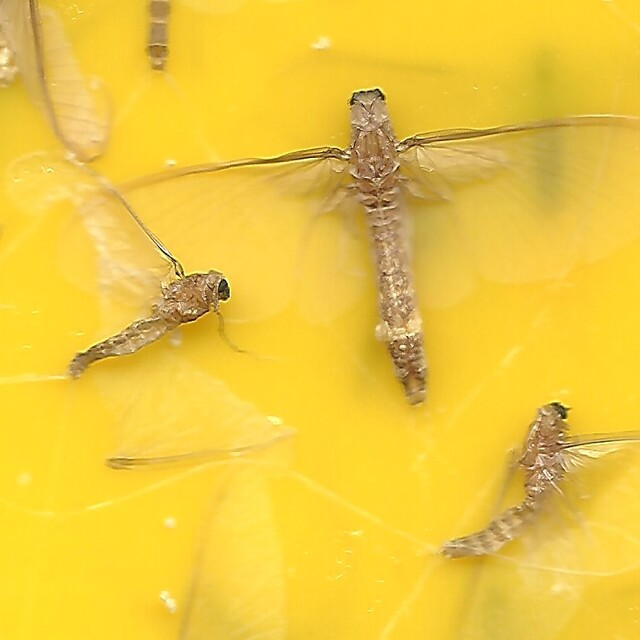Ephemeroptera: (347, 84, 427, 406), (443, 396, 572, 556), (68, 265, 234, 380)
